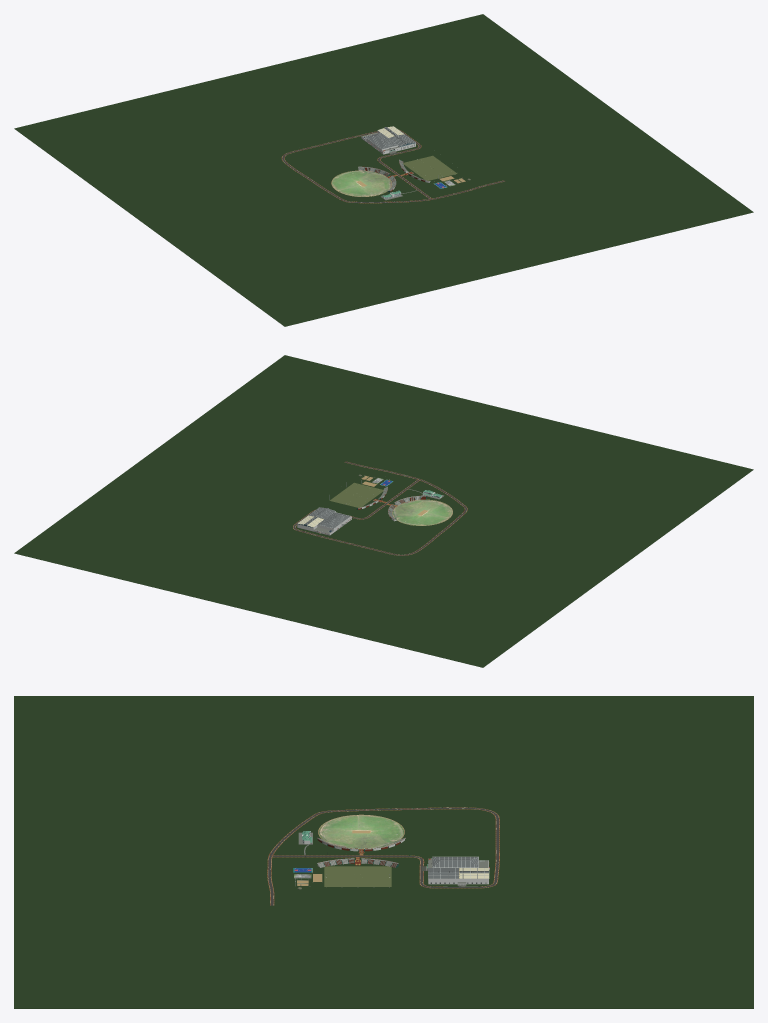
File: campus.glb
The picture shows the model from 3 angles, top to bottom: view 1: azimuth 30°, elevation 25°; view 2: azimuth 150°, elevation 25°; view 3: azimuth 270°, elevation 25°; orthographic projection. The views are drawn at different scales.
Visible parts, largest first — view 1: NIT Silchar campus; view 2: NIT Silchar campus; view 3: NIT Silchar campus.
Part boxes in pixels (box(x1,y1,x2,y2)): NIT Silchar campus: box(14, 14, 753, 326); NIT Silchar campus: box(14, 355, 753, 667); NIT Silchar campus: box(14, 696, 753, 1008).
Bounding box in the file's own units: 1250 × 14.93 × 1250.
45 materials, 2 textured.
